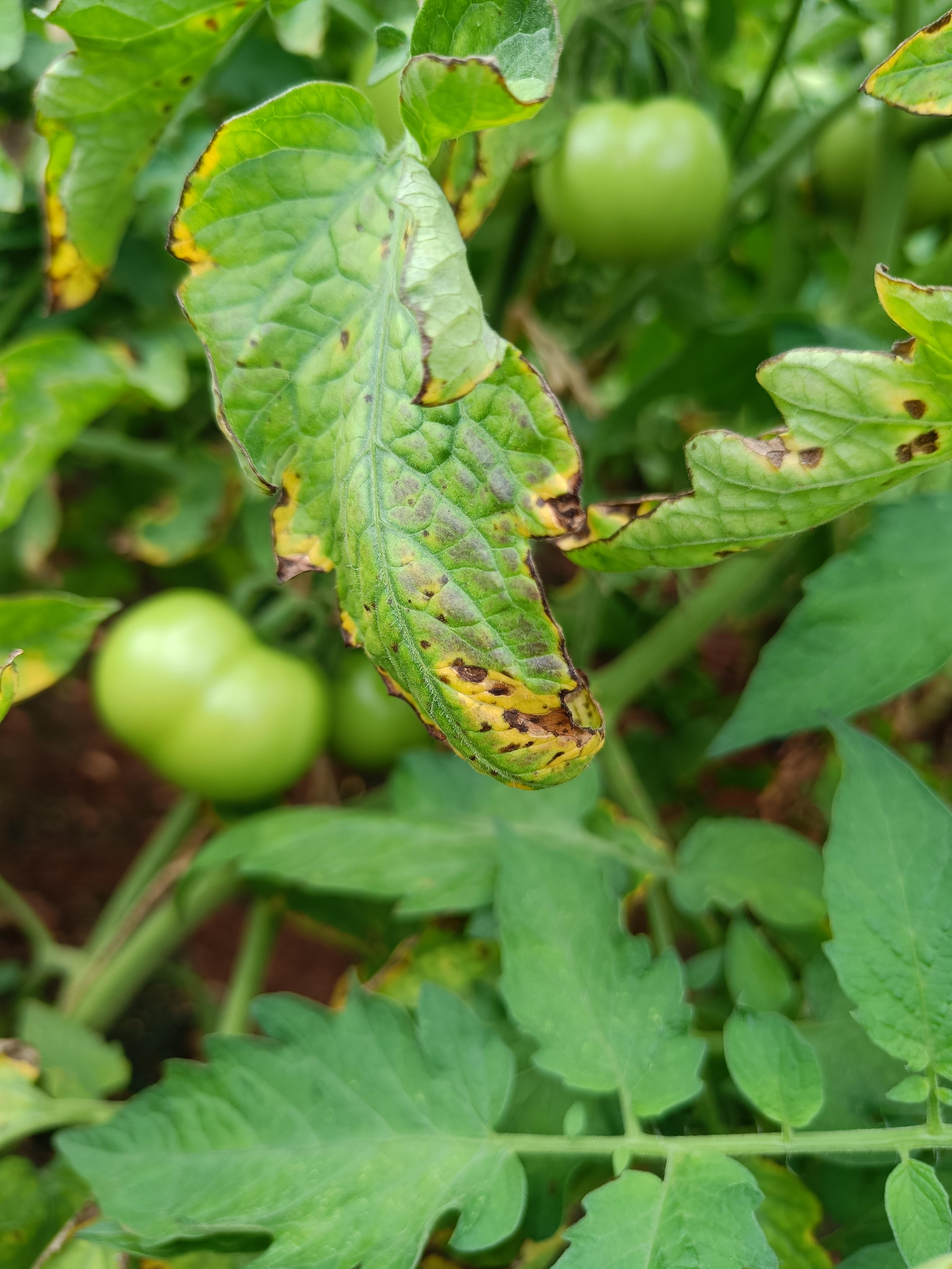Early Blight: (151, 63, 616, 810), (568, 253, 952, 591)
Healthy: (50, 967, 530, 1269), (488, 809, 711, 1114), (824, 709, 952, 1080)
